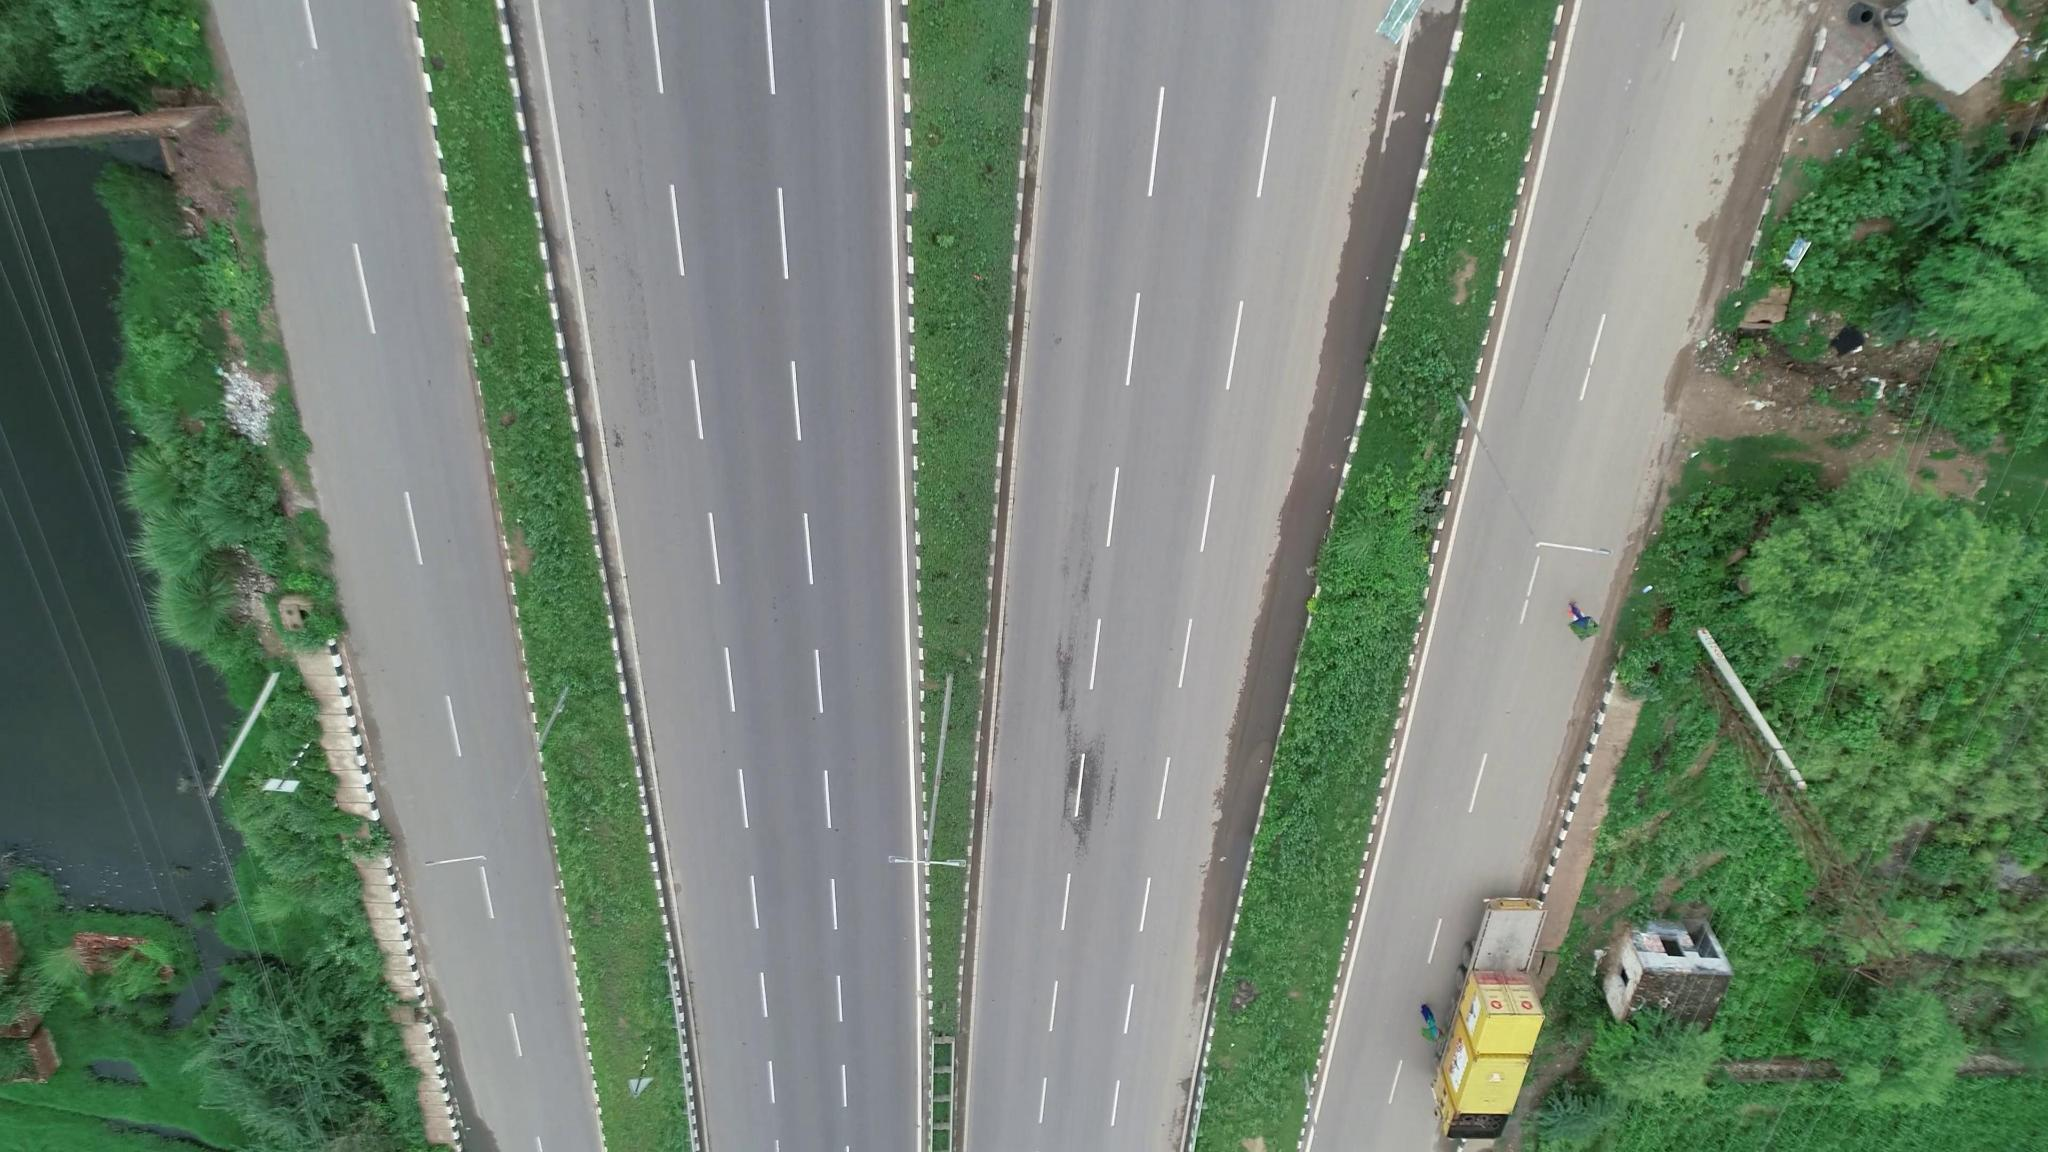Ravelling: (1047, 627, 1117, 859)
